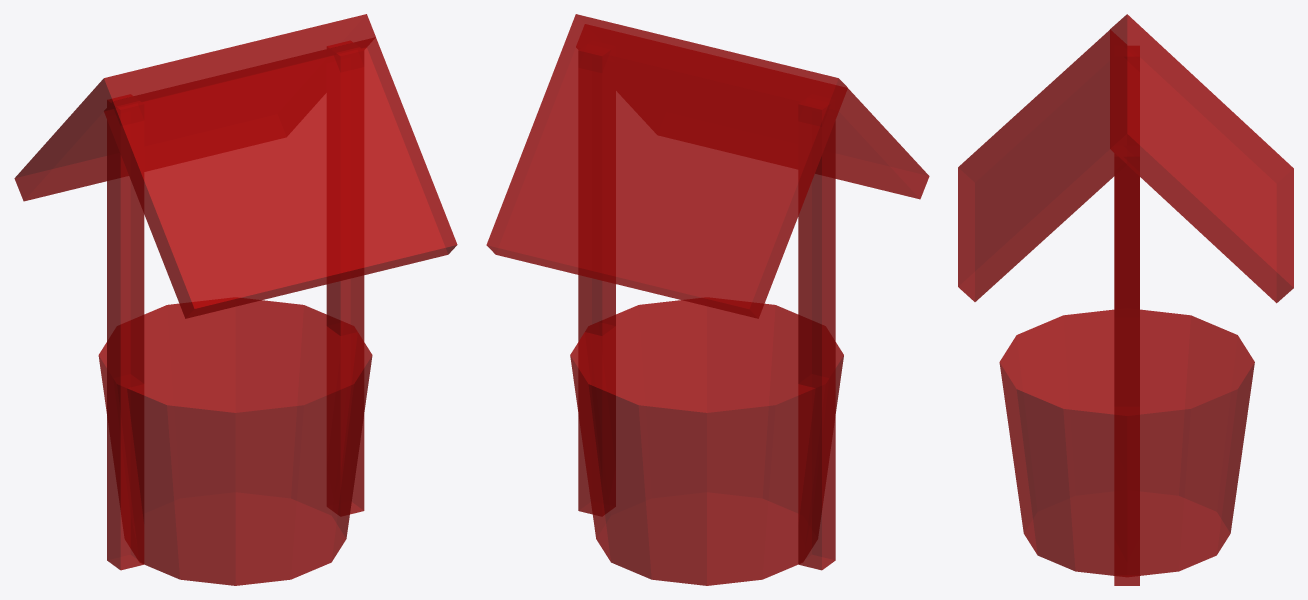
The model's file is SM_Prop_Well_01_Collision.fbx.
3 views of the same model, side by side, from view 1: azimuth 30°, elevation 25°; view 2: azimuth 150°, elevation 25°; view 3: azimuth 270°, elevation 25° (orthographic). The views are drawn at different scales.
Visible parts, largest first — view 1: SM_Prop_Well_01_Collision; view 2: SM_Prop_Well_01_Collision; view 3: SM_Prop_Well_01_Collision.
Boxes of the visible parts, bbox=[...] form: SM_Prop_Well_01_Collision: bbox=[14, 14, 457, 585]; SM_Prop_Well_01_Collision: bbox=[486, 14, 929, 585]; SM_Prop_Well_01_Collision: bbox=[958, 14, 1293, 585].
Size of the model in its own units: 166 by 297 by 197.
